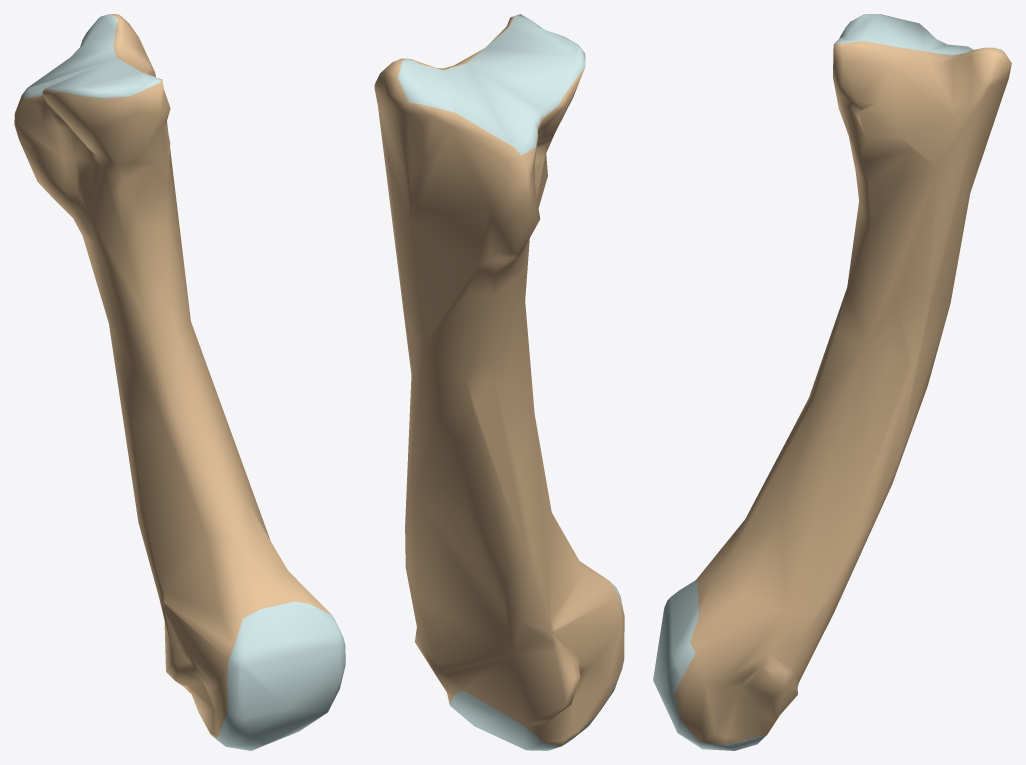
The model's file is 3d_metacarpal_bone.l_Generated_Mesh_From_X3D.740.glb.
The picture shows the model from 3 angles, left to right: view 1: azimuth 30°, elevation 25°; view 2: azimuth 150°, elevation 25°; view 3: azimuth 270°, elevation 25°; orthographic projection. The views are drawn at different scales.
Parts seen in each view (by area): view 1: 3d_metacarpal_bone.l_Generated_Mesh_From_X3D.740; view 2: 3d_metacarpal_bone.l_Generated_Mesh_From_X3D.740; view 3: 3d_metacarpal_bone.l_Generated_Mesh_From_X3D.740.
Part boxes in pixels (x1=…): 3d_metacarpal_bone.l_Generated_Mesh_From_X3D.740: x1=14, y1=14, x2=345, y2=750; 3d_metacarpal_bone.l_Generated_Mesh_From_X3D.740: x1=374, y1=14, x2=624, y2=750; 3d_metacarpal_bone.l_Generated_Mesh_From_X3D.740: x1=653, y1=14, x2=1011, y2=750.
Size of the model in its own units: 0.0208 by 0.0667 by 0.0317.
